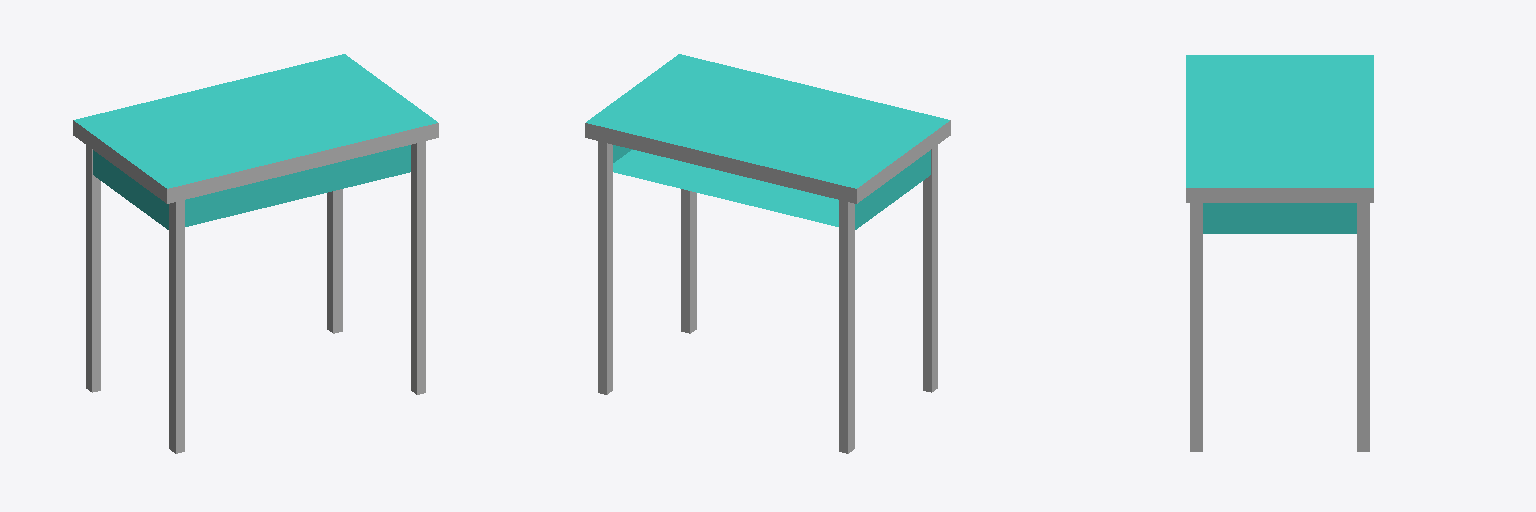
The model's file is mesapeq.obj.
The picture shows the model from 3 angles: view 1: azimuth 30°, elevation 25°; view 2: azimuth 150°, elevation 25°; view 3: azimuth 270°, elevation 25°; orthographic projection.
Parts seen in each view (by area): view 1: Grid_Madeira, Cube_Cube; view 2: Grid_Madeira, Cube_Cube; view 3: Grid_Madeira, Cube_Cube.
Part boxes in pixels (x1,y1,x2,y2): Grid_Madeira: (73, 54, 438, 453); Cube_Cube: (93, 145, 410, 229); Grid_Madeira: (585, 54, 950, 453); Cube_Cube: (613, 145, 930, 229); Grid_Madeira: (1186, 55, 1373, 451); Cube_Cube: (1203, 203, 1356, 233).
Size of the model in its own units: 60 by 56.82 by 36.